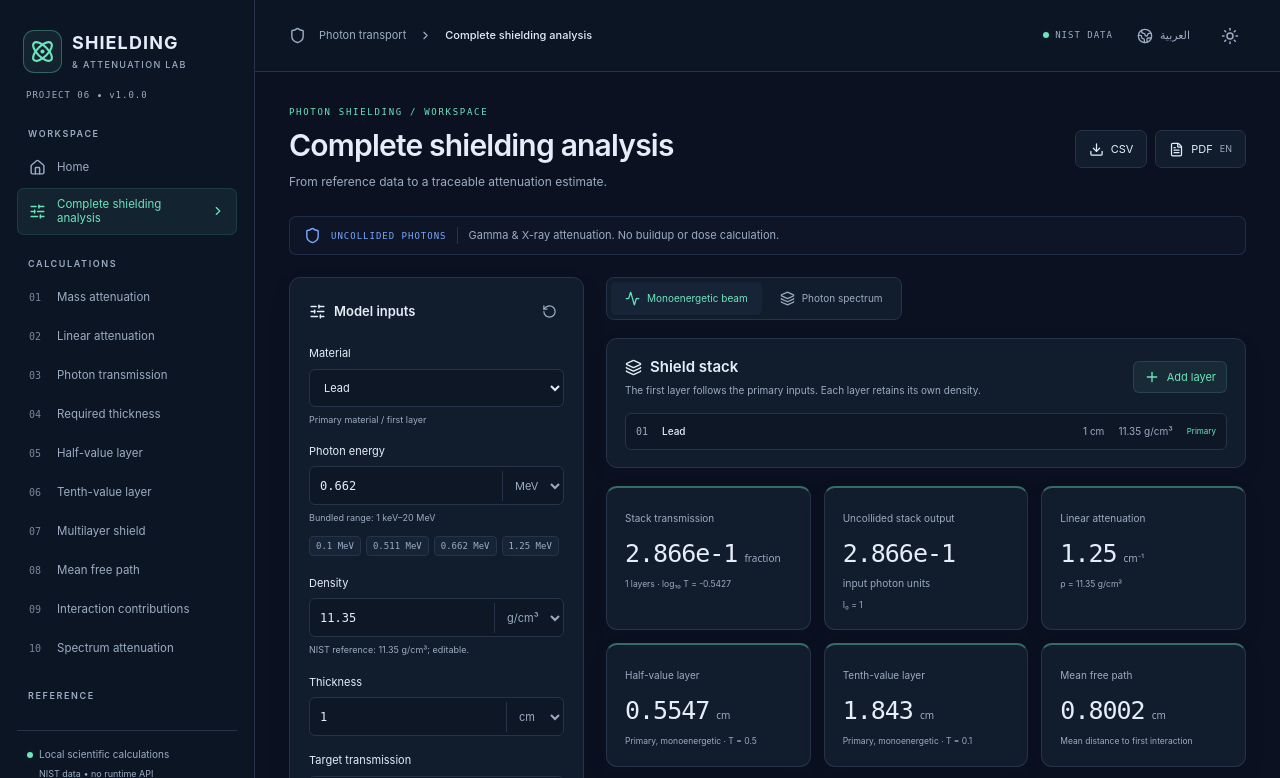
Test case: DOM integration (jsdom; not browser-engine tests) › energy unit change preserves the physical energy
The width and height of the screenshot is (1280, 778).
Select "keV" in the dropdown named "Energy unit" at (532, 486), box [502, 471, 563, 501]
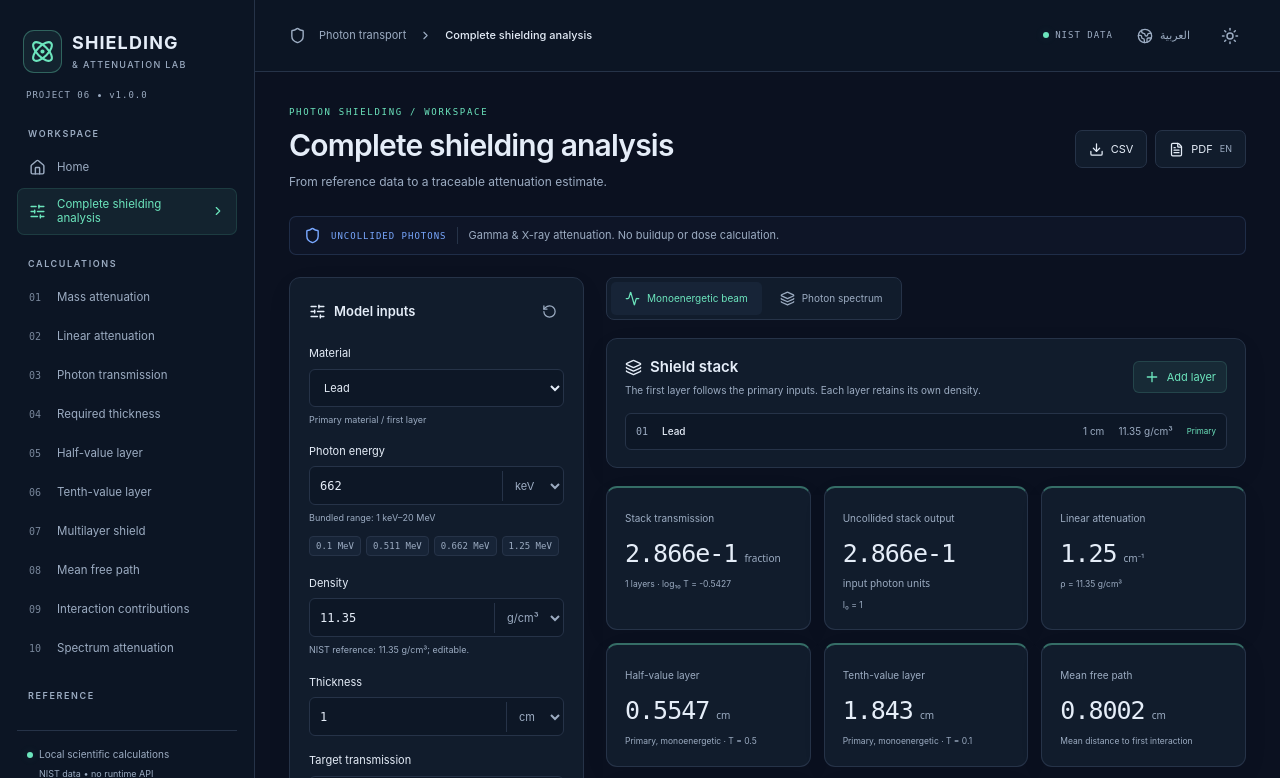
Result: the number field labelled "Photon energy" holds "662" at [310, 468, 502, 504]
